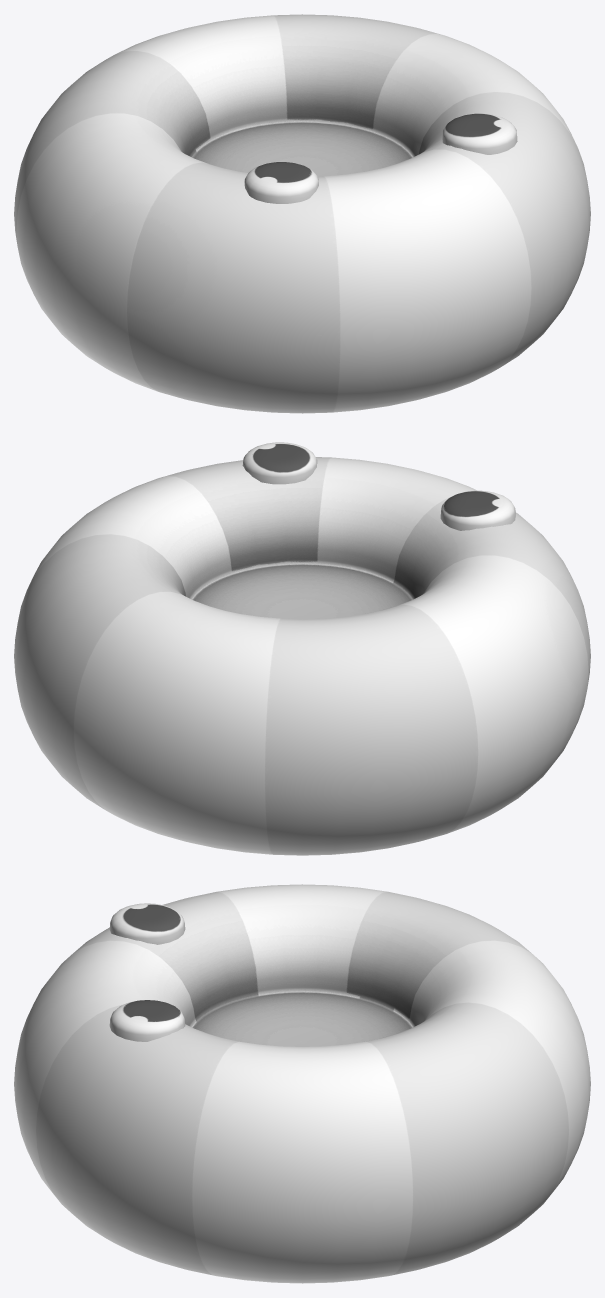
File: Pin_Model_5.fbx
3 views of the same model, one above another, from view 1: azimuth 30°, elevation 25°; view 2: azimuth 150°, elevation 25°; view 3: azimuth 270°, elevation 25° (orthographic).
Parts seen in each view (by area): view 1: Pin_lifebuoy, polySurface2; view 2: Pin_lifebuoy, polySurface2; view 3: Pin_lifebuoy, polySurface2.
Part boxes in pixels (box(x1,y1,x2,y2)): Pin_lifebuoy: box(14, 14, 590, 413); polySurface2: box(244, 113, 517, 203); Pin_lifebuoy: box(14, 457, 590, 855); polySurface2: box(242, 442, 515, 530); Pin_lifebuoy: box(14, 884, 590, 1283); polySurface2: box(109, 903, 185, 1041).
Size of the model in its own units: 0.6419 by 0.2862 by 0.6419.
3 materials, 3 textured.
